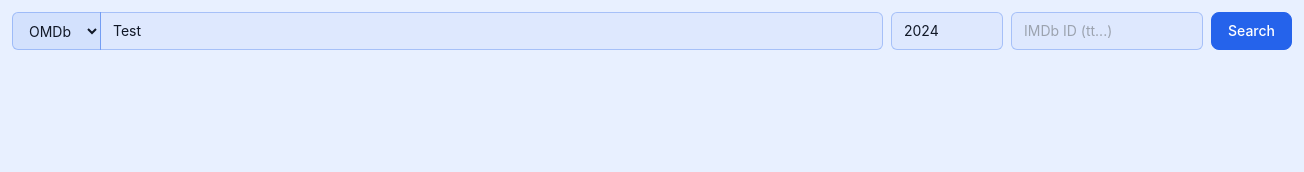
it: TitleSearch › interactions › shows error on search failure
Click the button "Search": (1252, 31) [1211, 12, 1292, 50]
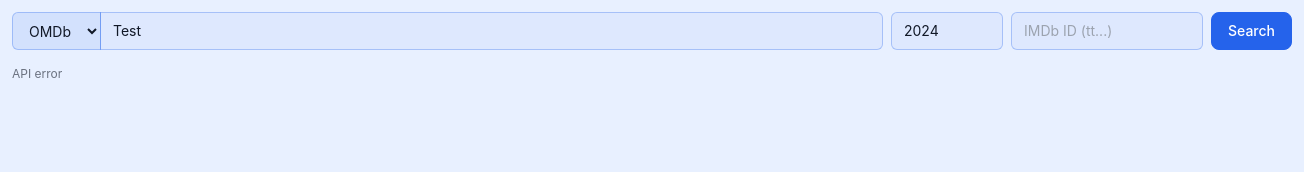
Expected: the text "API error" is shown, [12, 66, 62, 82]
